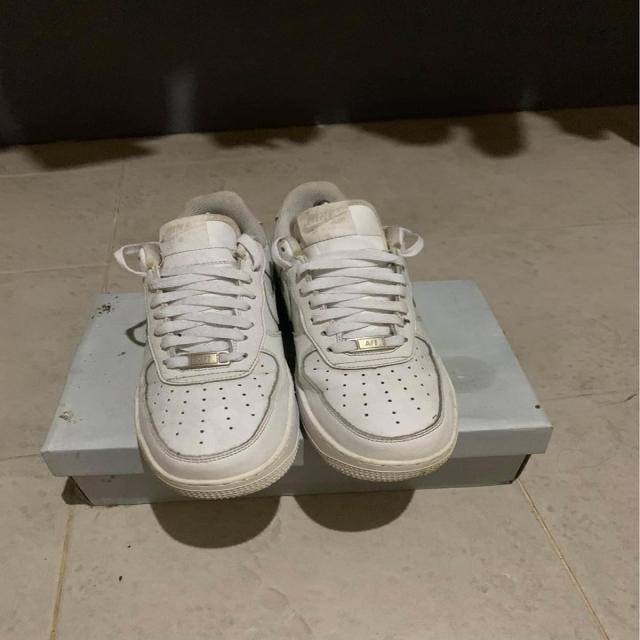nike original air force: (272, 177, 467, 477), (125, 192, 298, 502)
